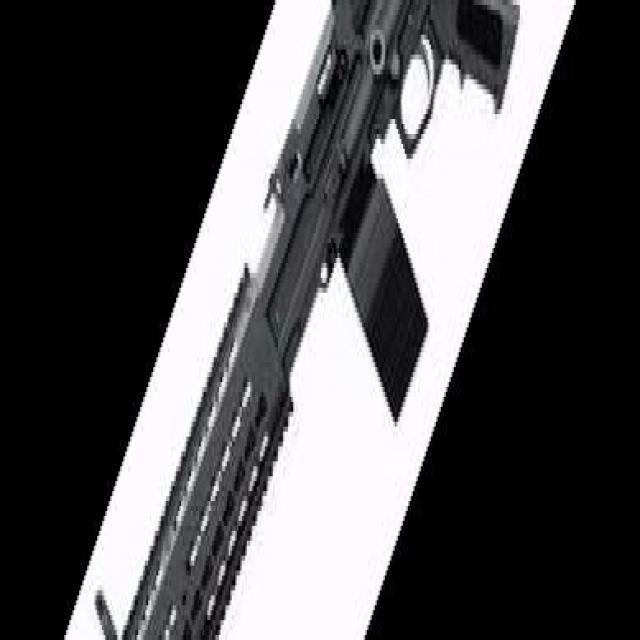weapon: (94, 0, 520, 640)
